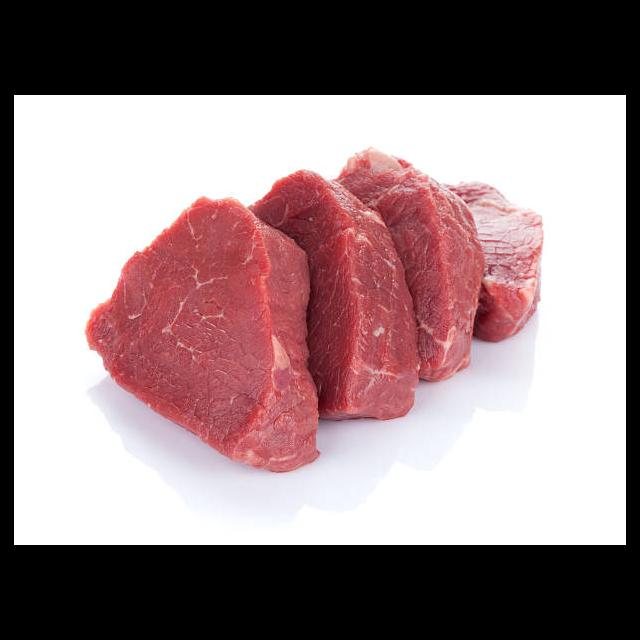beef: (84, 144, 546, 473)
